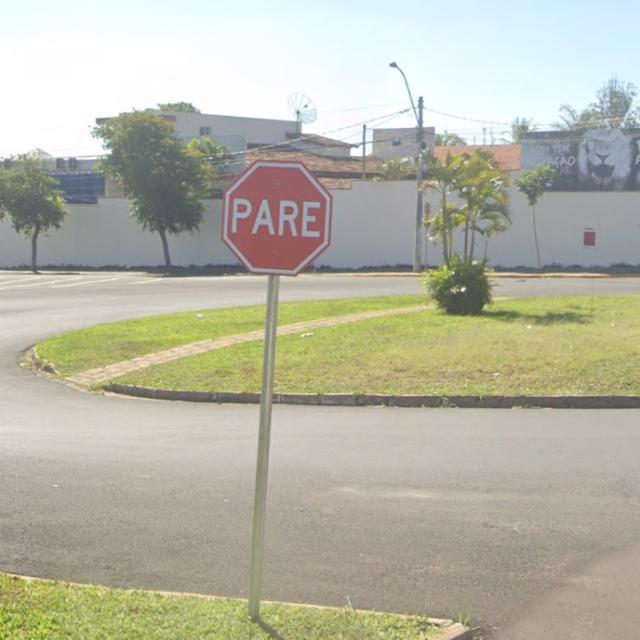stop: (214, 152, 342, 296)
